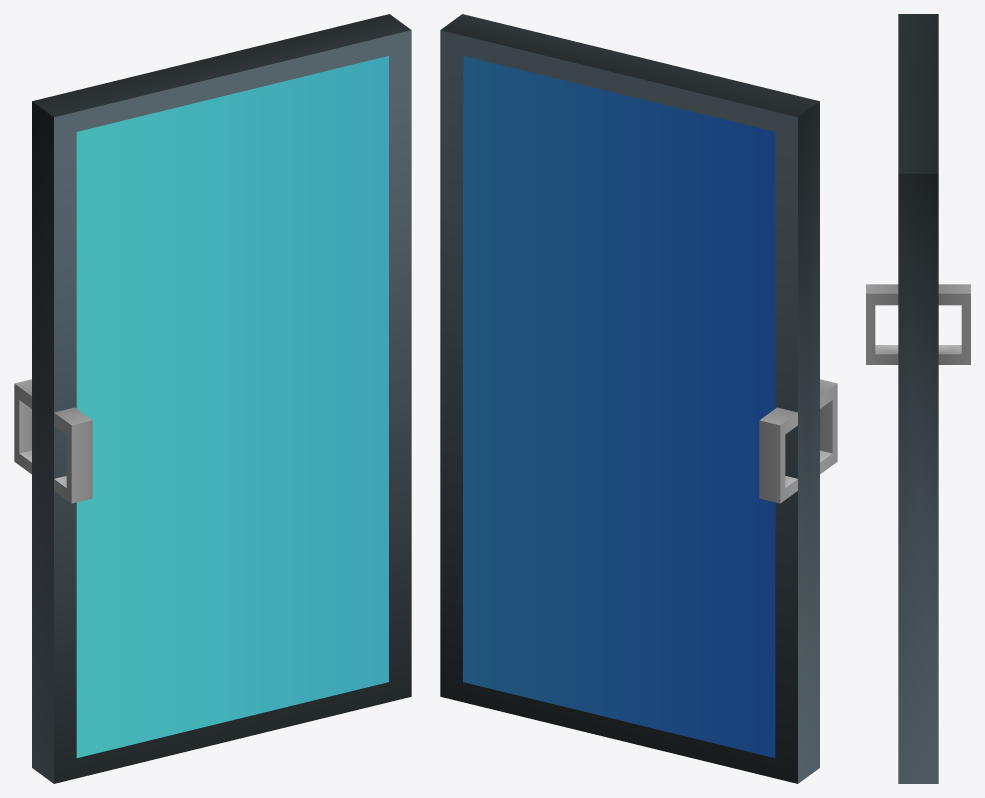
The model's file is SM_Glass_Door.fbx.
3 views of the same model, side by side, from view 1: azimuth 30°, elevation 25°; view 2: azimuth 150°, elevation 25°; view 3: azimuth 270°, elevation 25° (orthographic). The views are drawn at different scales.
Parts seen in each view (by area): view 1: Glass_Door, Glass_Door.Handel; view 2: Glass_Door, Glass_Door.Handel; view 3: Glass_Door, Glass_Door.Handel.
Boxes of the visible parts, left/top/right/bottom form: Glass_Door: left=32, top=14, right=411, bottom=783; Glass_Door.Handel: left=14, top=379, right=92, bottom=503; Glass_Door: left=440, top=14, right=819, bottom=783; Glass_Door.Handel: left=759, top=379, right=837, bottom=503; Glass_Door: left=898, top=14, right=938, bottom=783; Glass_Door.Handel: left=866, top=284, right=970, bottom=364.
Size of the model in its own units: 1.88 by 3.34 by 0.5211.
